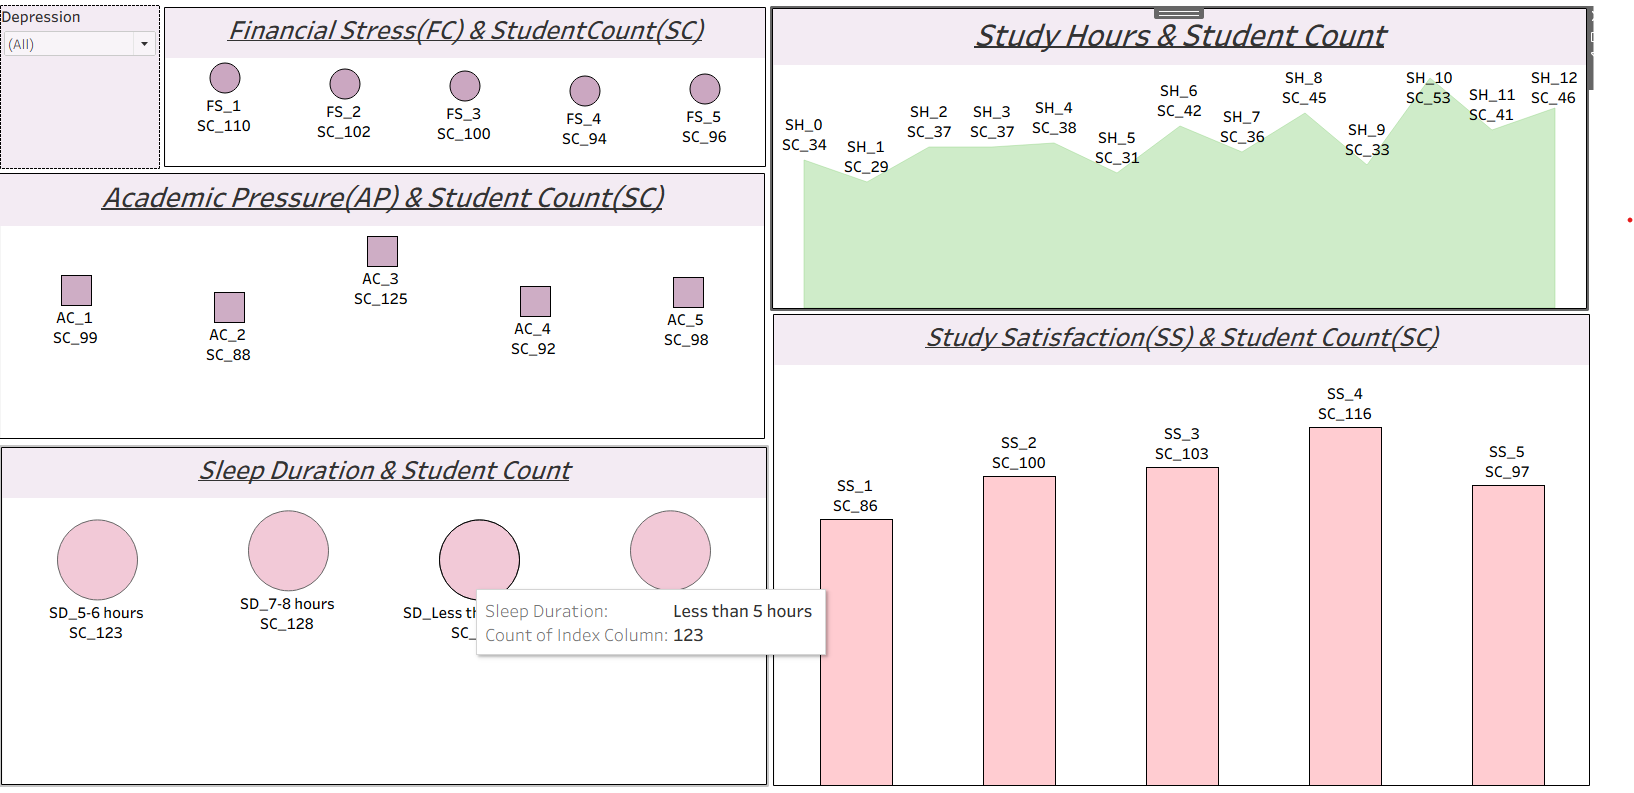

Layout of this report page (visuals, bound fields, positions):
{"tool":"tableau","page":{"name":"Dashboard 1","canvas":[1600,800],"ordinal":0},"visuals":[{"type":"filter","title":"SH&SC","param":"[federated.0wqlgxz0e8zj8f11kw7x60o5rc59].[none:Depression:nk]","box":[5,9,160,164]},{"type":"worksheet","title":"FC&SC","mark":"Circle","rows":["index_column"],"cols":["Financial_Stress"],"box":[169,11,602,160]},{"type":"worksheet","title":"SH&SC","mark":"Area","rows":["index_column"],"cols":["Study_Hours"],"box":[777,12,815,301]},{"type":"worksheet","title":"AP&SC","mark":"Square","rows":["index_column"],"cols":["Academic_Pressure"],"box":[4,177,766,266]},{"type":"worksheet","title":"SS&SC","mark":"Automatic","rows":["index_column"],"cols":["Study_Satisfaction"],"box":[778,318,817,472]},{"type":"worksheet","title":"SD&SC","mark":"Pie","rows":["index_column"],"cols":["Sleep_Duration"],"box":[6,451,766,338]}]}

Visuals, with their boxes in screenshot pixels (x1, y1, x2, y2):
"SH&SC" filter: BBox(0, 0, 146, 162)
"FC&SC" worksheet (Circle marks): BBox(150, 0, 759, 160)
"SH&SC" worksheet (Area marks): BBox(765, 0, 1589, 304)
"AP&SC" worksheet (Square marks): BBox(0, 166, 758, 435)
"SS&SC" worksheet: BBox(766, 309, 1592, 786)
"SD&SC" worksheet (Pie marks): BBox(0, 443, 760, 785)
